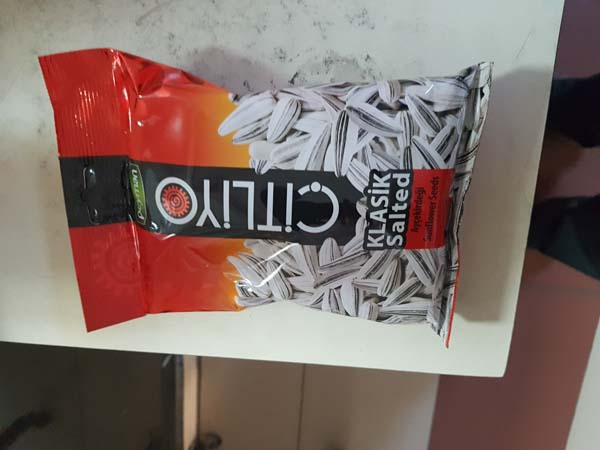citliyorklasik: (29, 46, 497, 355)
